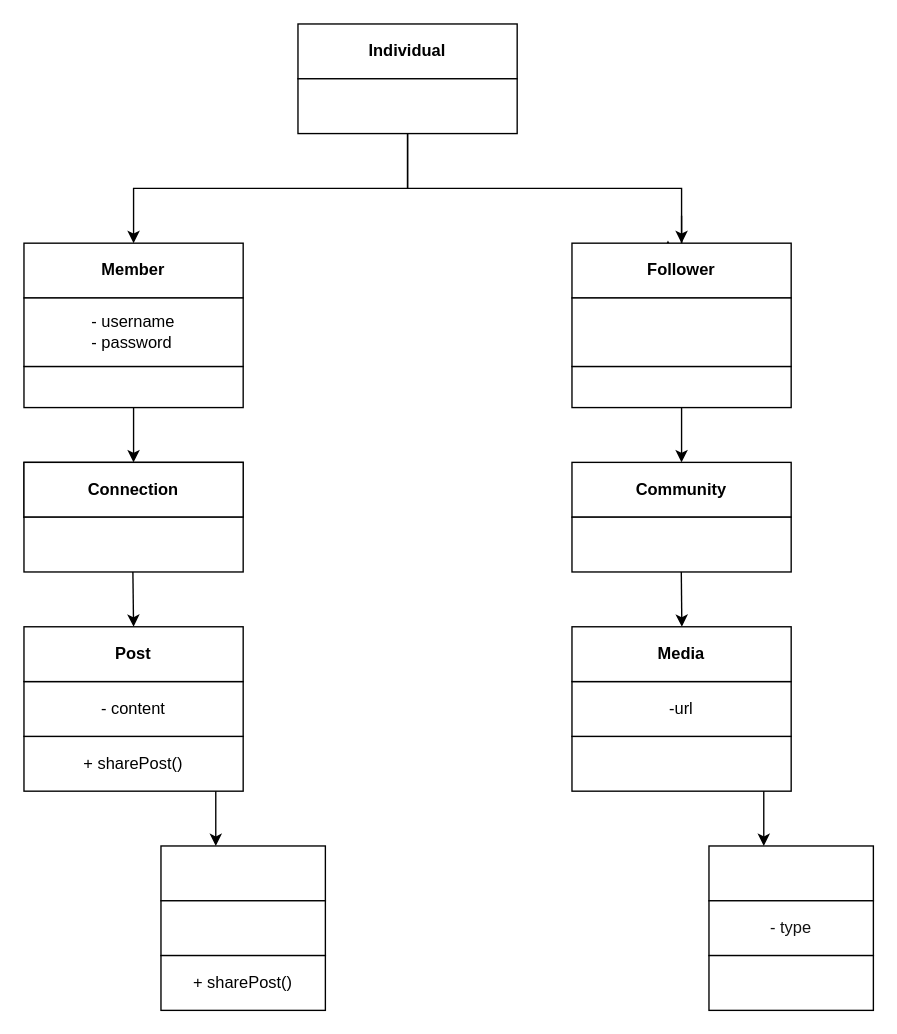
Some shapes in this 897 by 1034 pixel diagram are drawn without their labels. The shapes that lost their labels are listed below. From the top down, each one's centre as x and y in pixels, then its label:
(133,386): + createPost()
(242,873): Share
(790,873): Reaction
